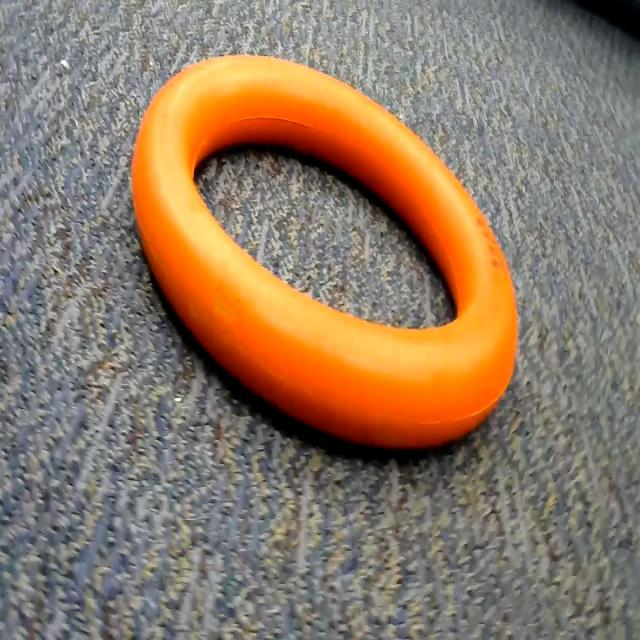note: (124, 49, 536, 458)
